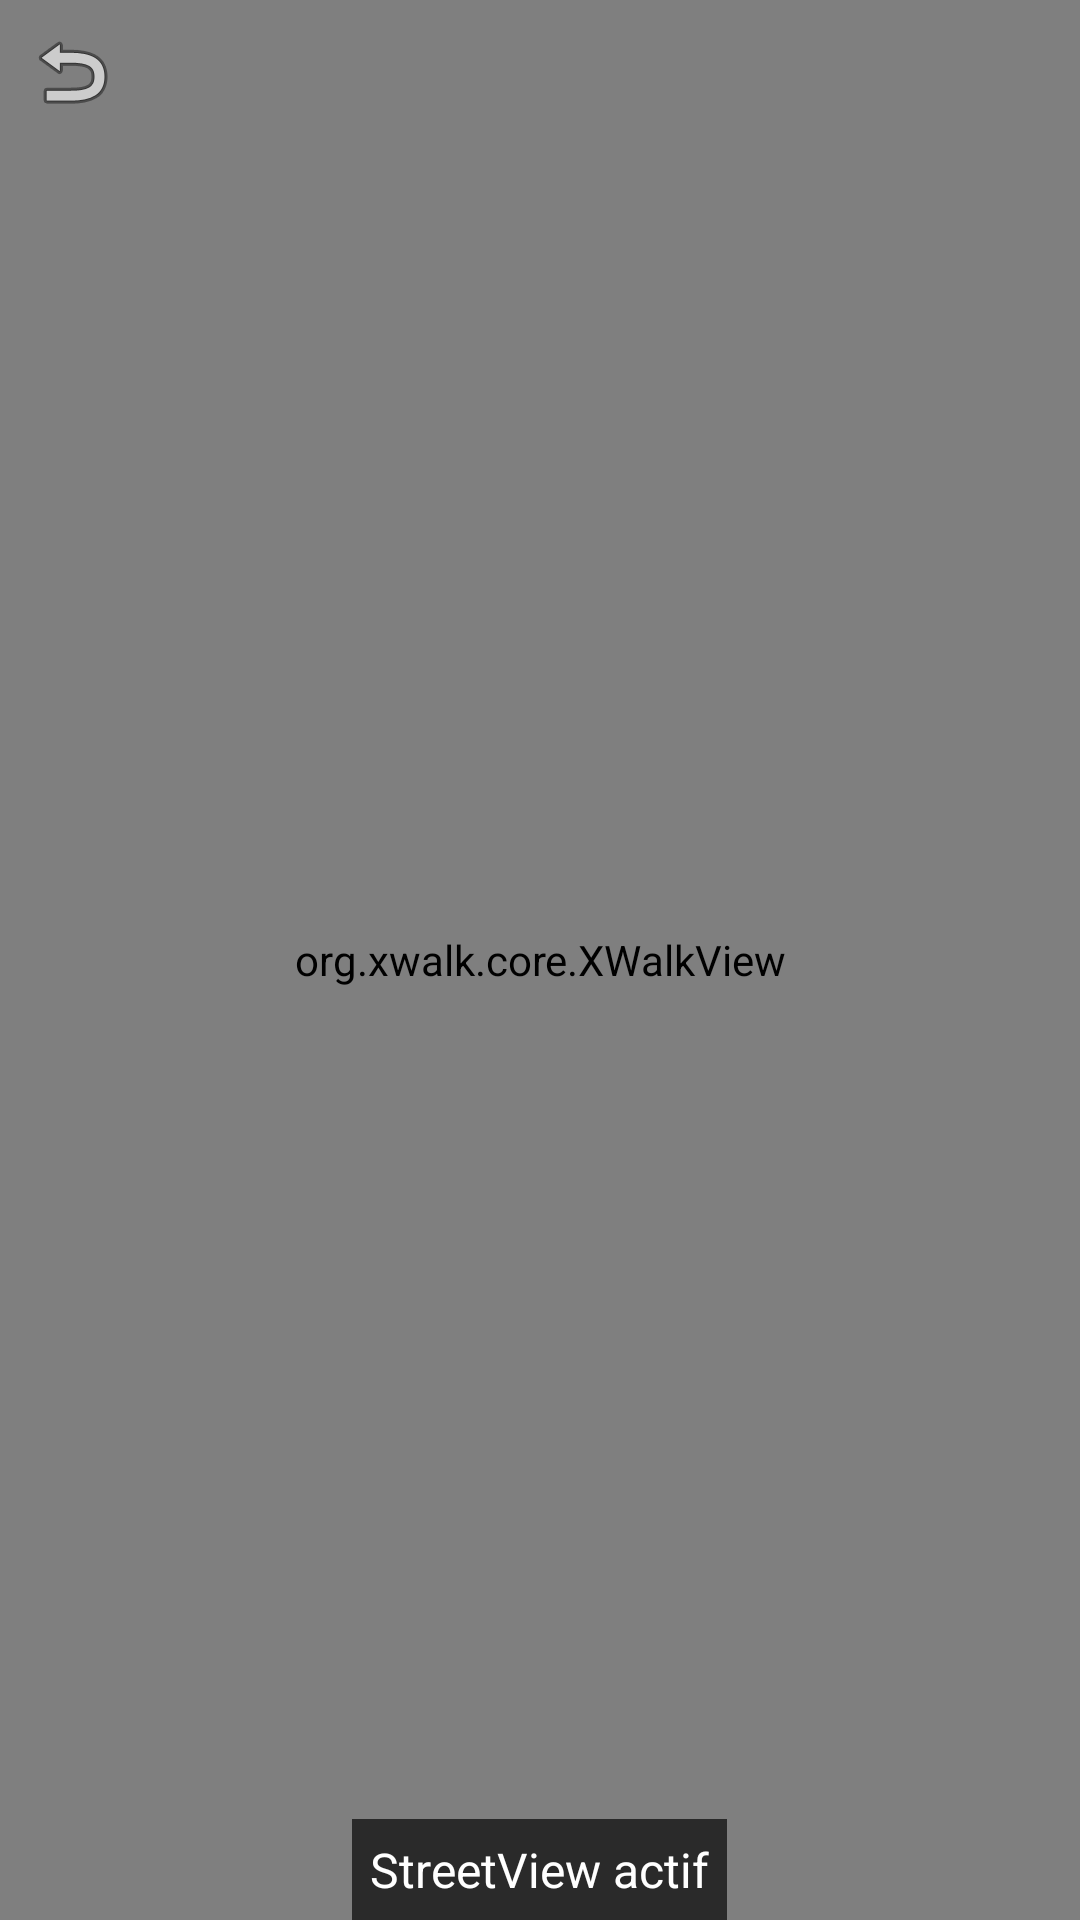

Named icons in this screenshot (1080 x 1920) and their bounding boxes, BBox(x1, y1, x2, y2):
Retour: BBox(39, 42, 108, 104)
